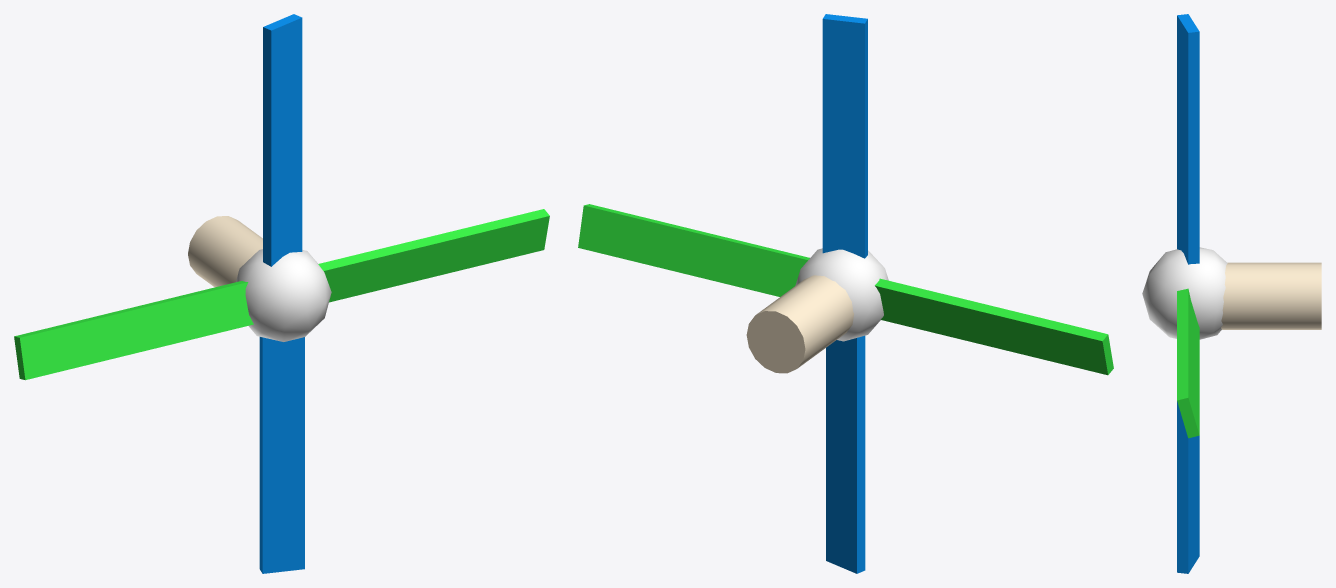
File: propeller.obj
The picture shows the model from 3 angles, left to right: view 1: azimuth 30°, elevation 25°; view 2: azimuth 150°, elevation 25°; view 3: azimuth 270°, elevation 25°; orthographic projection.
Visible parts, largest first — view 1: Box03, Box02, Box04, Box05, GeoSphere05, Cylinder02; view 2: Box04, Box05, Box03, Box02, Cylinder02, GeoSphere05; view 3: Cylinder02, Box04, GeoSphere05, Box02, Box05.
Boxes of the visible parts, left/top/right/bottom form: Box03: left=14, top=281, right=253, bottom=380; Box02: left=259, top=337, right=304, bottom=573; Box04: left=263, top=14, right=302, bottom=266; Box05: left=318, top=209, right=549, bottom=302; GeoSphere05: left=236, top=249, right=331, bottom=341; Cylinder02: left=188, top=216, right=262, bottom=287; Box04: left=822, top=14, right=867, bottom=258; Box05: left=578, top=204, right=809, bottom=296; Box03: left=875, top=278, right=1113, bottom=375; Box02: left=826, top=335, right=865, bottom=573; Cylinder02: left=746, top=275, right=853, bottom=373; GeoSphere05: left=795, top=248, right=888, bottom=341; Cylinder02: left=1221, top=262, right=1321, bottom=329; Box04: left=1177, top=14, right=1199, bottom=264; GeoSphere05: left=1142, top=247, right=1227, bottom=339; Box02: left=1177, top=401, right=1199, bottom=573; Box05: left=1177, top=288, right=1199, bottom=438.
Size of the model in its own units: 27.04 by 26.94 by 8.09.
